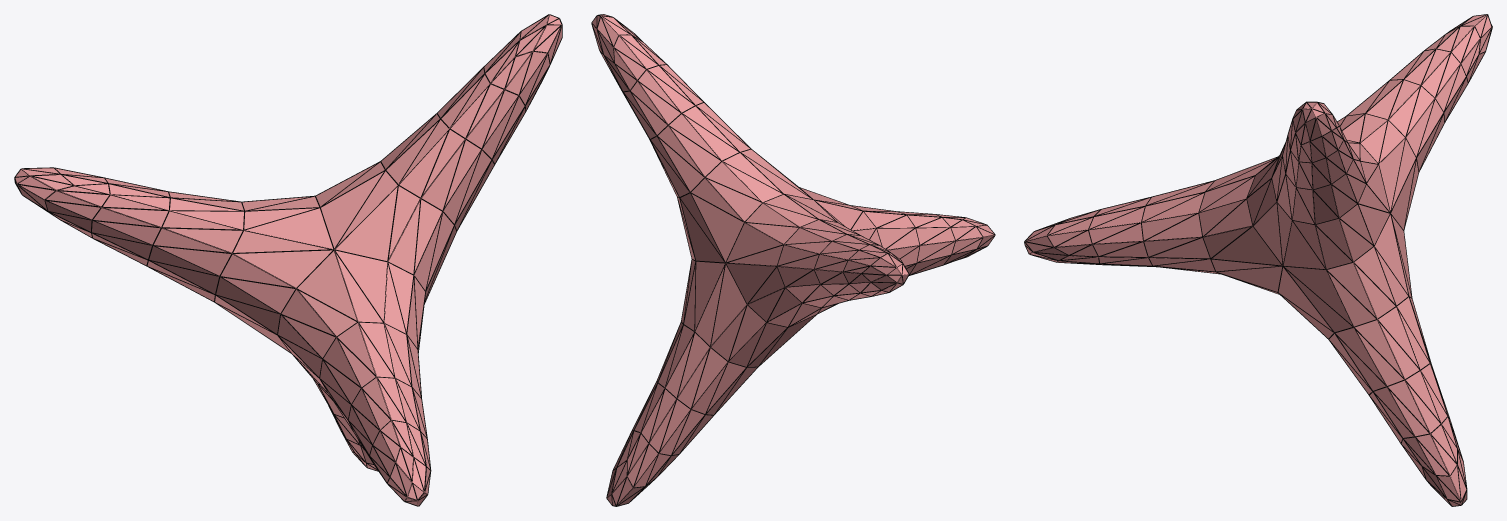
Rendered from web1.glb.
3 renders of one model, left to right at view 1: azimuth 30°, elevation 25°; view 2: azimuth 150°, elevation 25°; view 3: azimuth 270°, elevation 25°, orthographic. The views are drawn at different scales.
Parts seen in each view (by area): view 1: web1; view 2: web1; view 3: web1.
Part boxes in pixels (<box>): web1: <box>14,14,562,506</box>; web1: <box>591,14,995,506</box>; web1: <box>1024,14,1492,506</box>.
Size of the model in its own units: 5.02 by 5.14 by 4.88.
